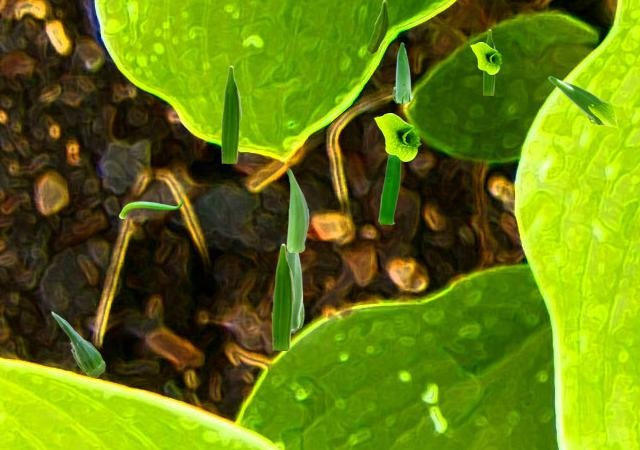okra: (51, 311, 104, 376), (548, 76, 609, 123), (271, 251, 303, 332), (272, 243, 293, 349), (221, 65, 240, 162), (286, 168, 308, 251), (378, 154, 400, 223), (392, 42, 412, 103), (119, 198, 181, 217), (367, 0, 387, 52), (483, 29, 495, 94)
